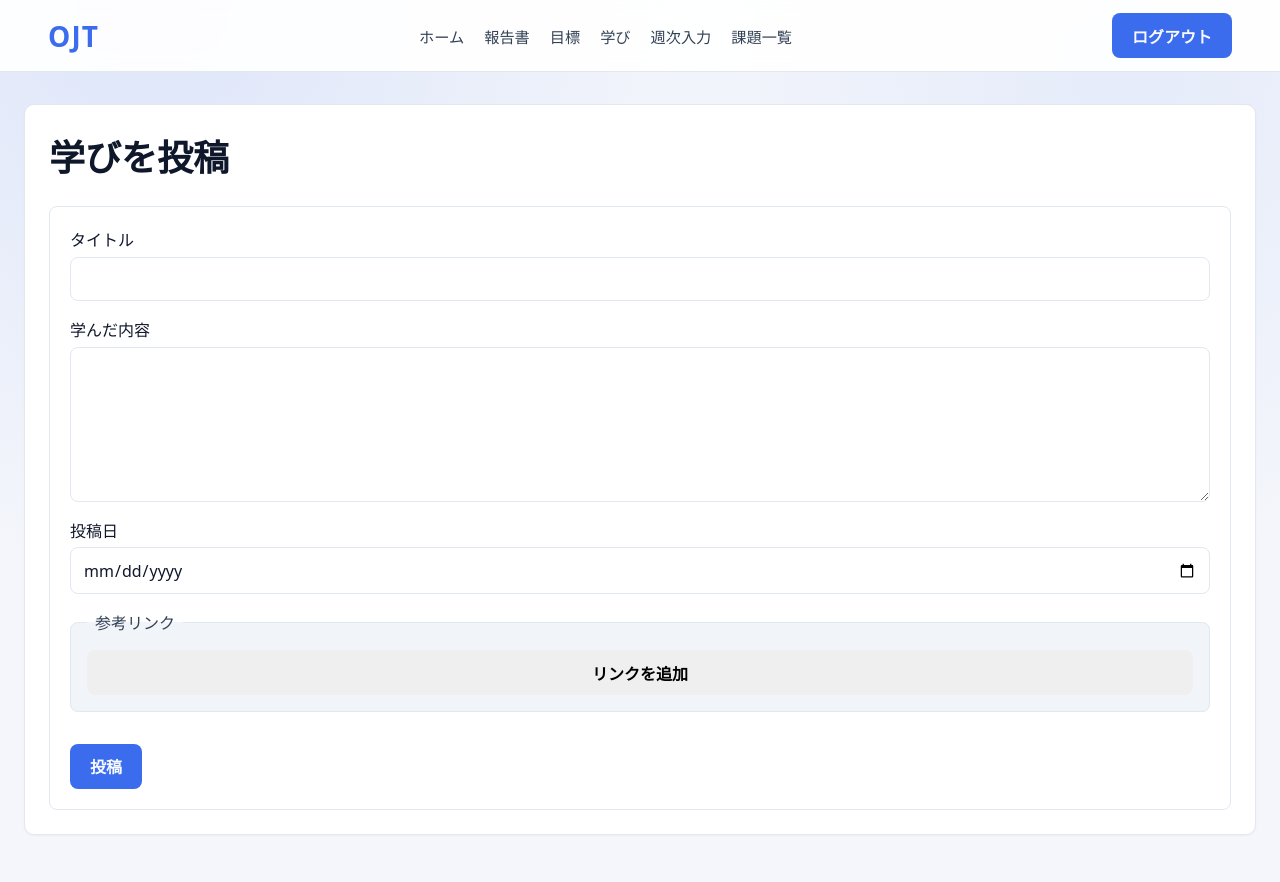
Test: 学び UI › U-L24 投稿画面での作成 › title・body・URLを入力して投稿すると成功フィードバックとタイムライン反映
Type "新しい学び" into the field labelled "タイトル".
click(640, 279); type("新しい学び")  # box [70, 257, 1210, 301]
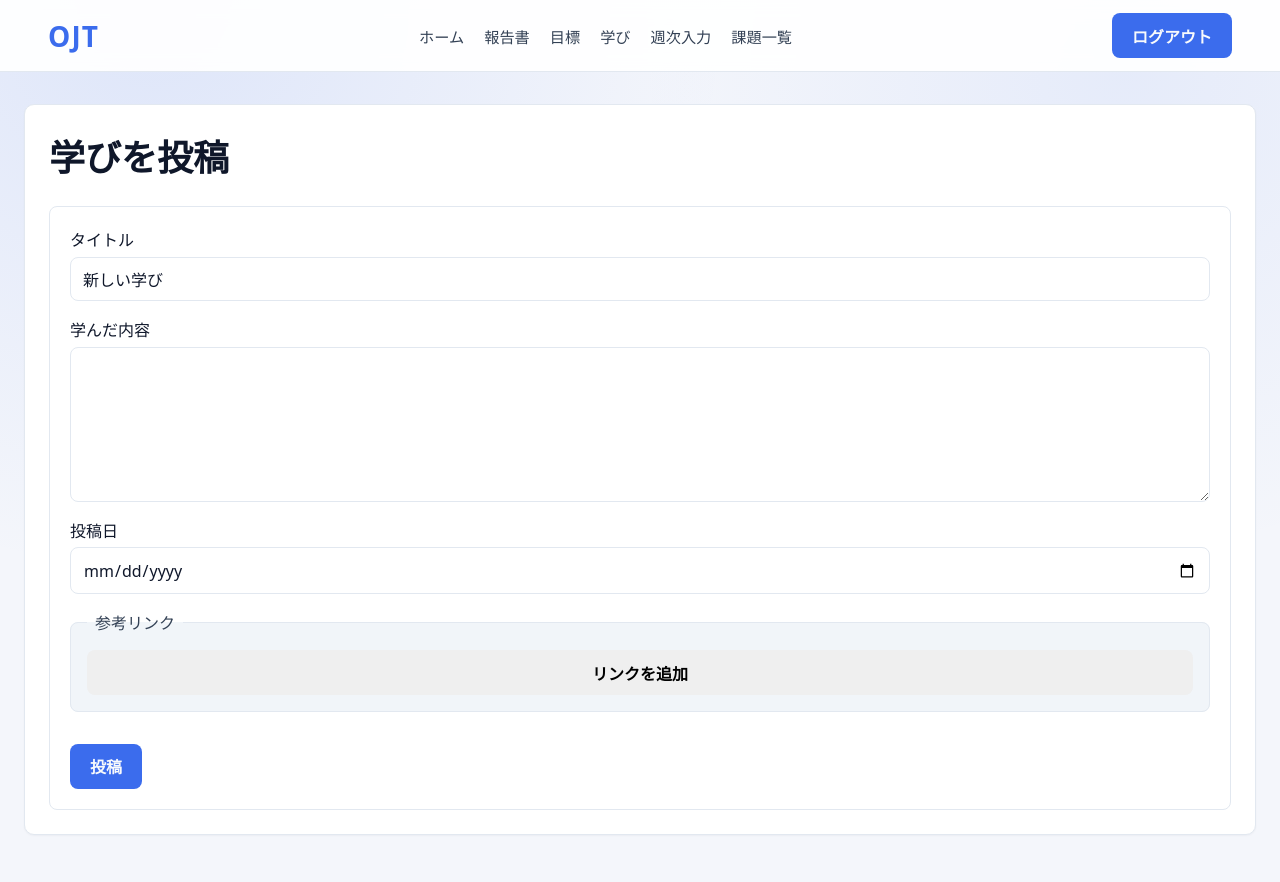
Type "今日はテストを書いた。" into the text box labelled "学んだ内容".
click(640, 424); type("今日はテストを書いた。")  # box [70, 347, 1210, 502]
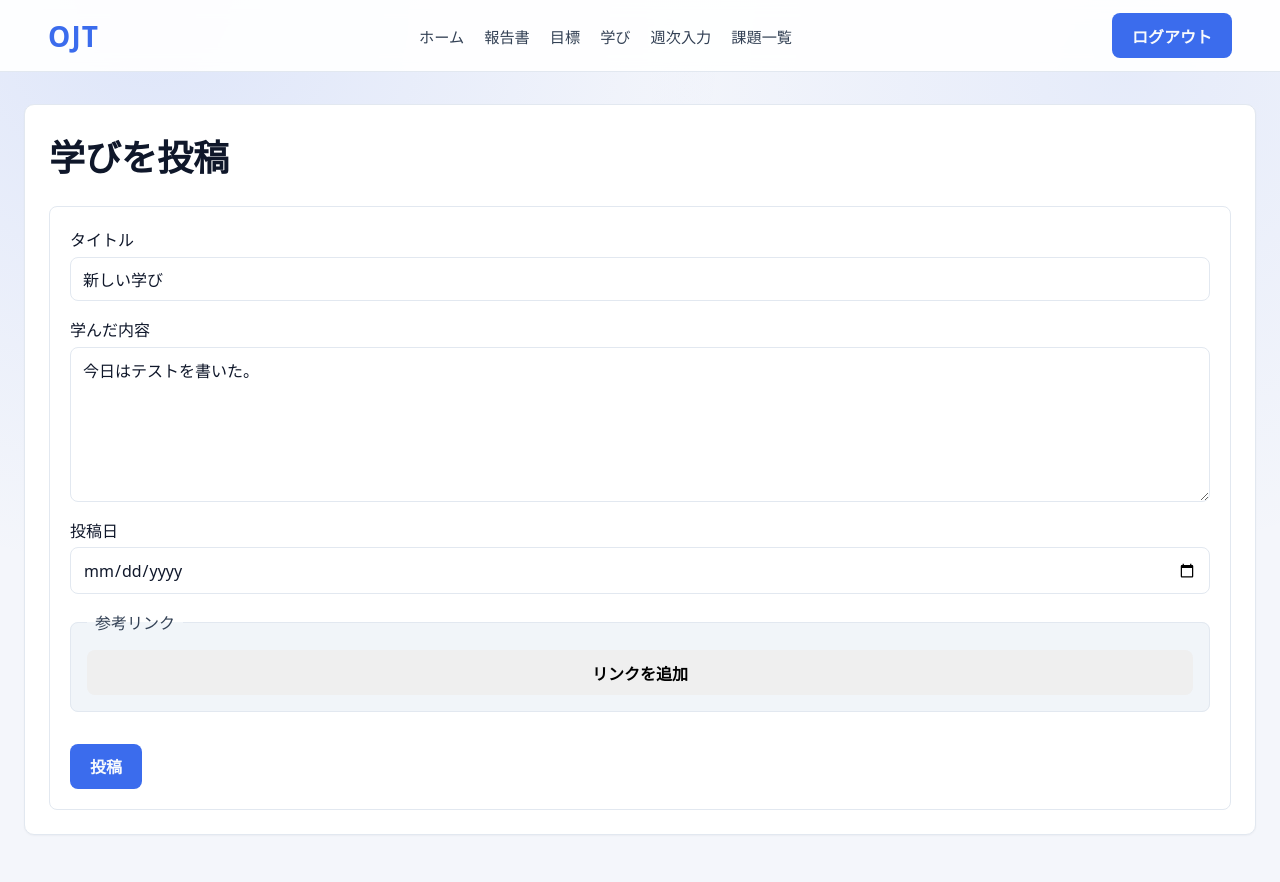
Click the button "リンクを追加".
click(640, 672)  # box [87, 650, 1193, 695]
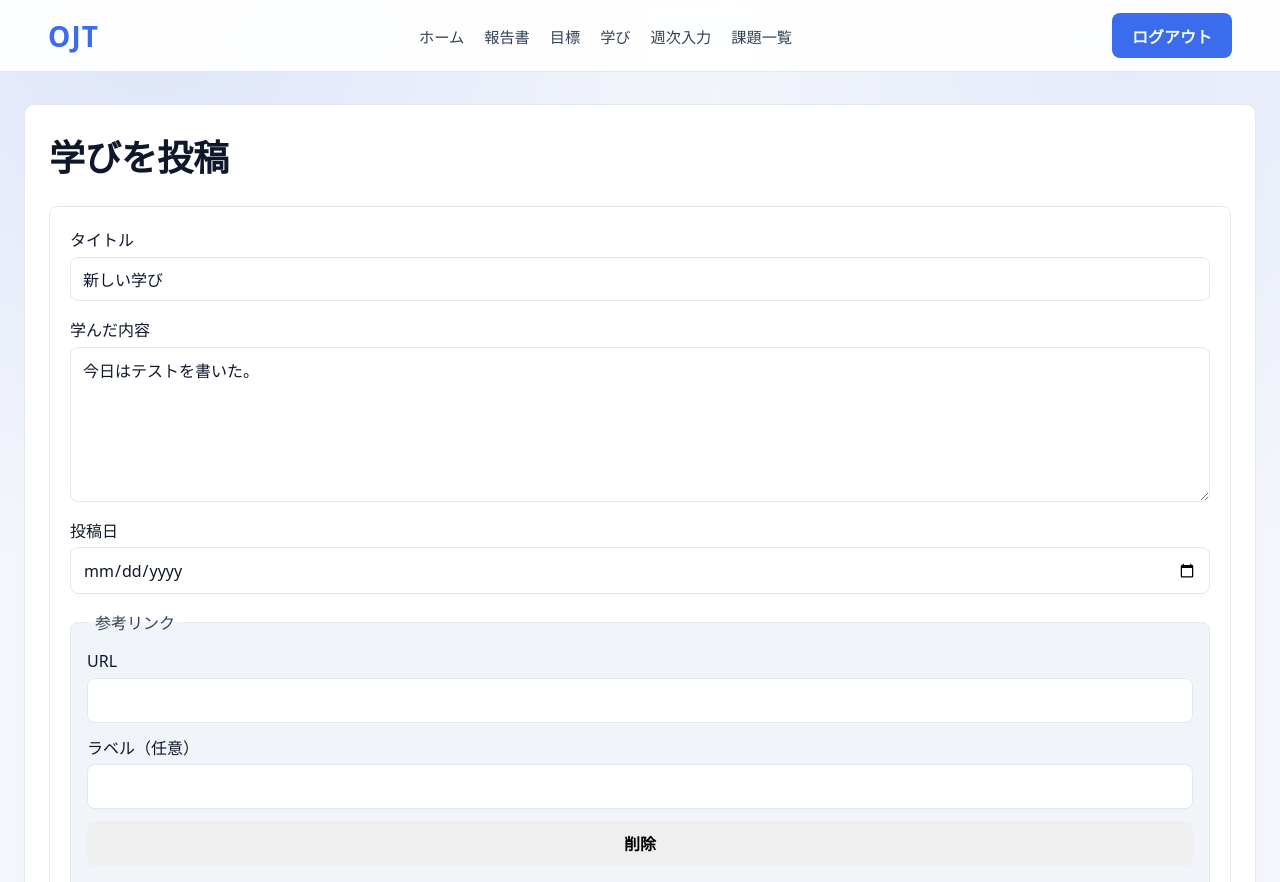
Type "https://example.com/docs" into the field labelled "URL".
click(640, 700); type("https://example.com/docs")  # box [87, 678, 1193, 722]
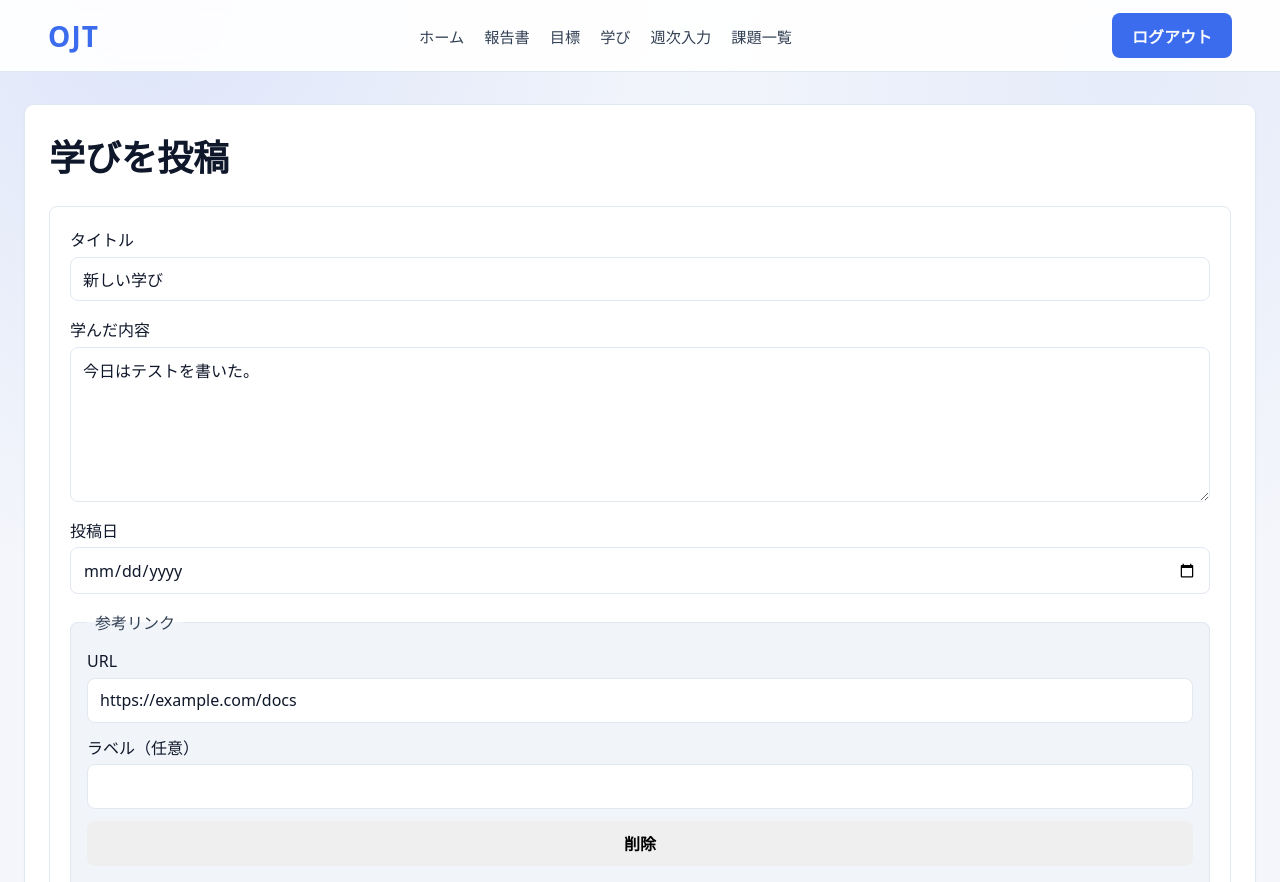
Type "Example Docs" into the field labelled "ラベル（任意）".
click(640, 786); type("Example Docs")  # box [87, 764, 1193, 809]
(page scrolled)
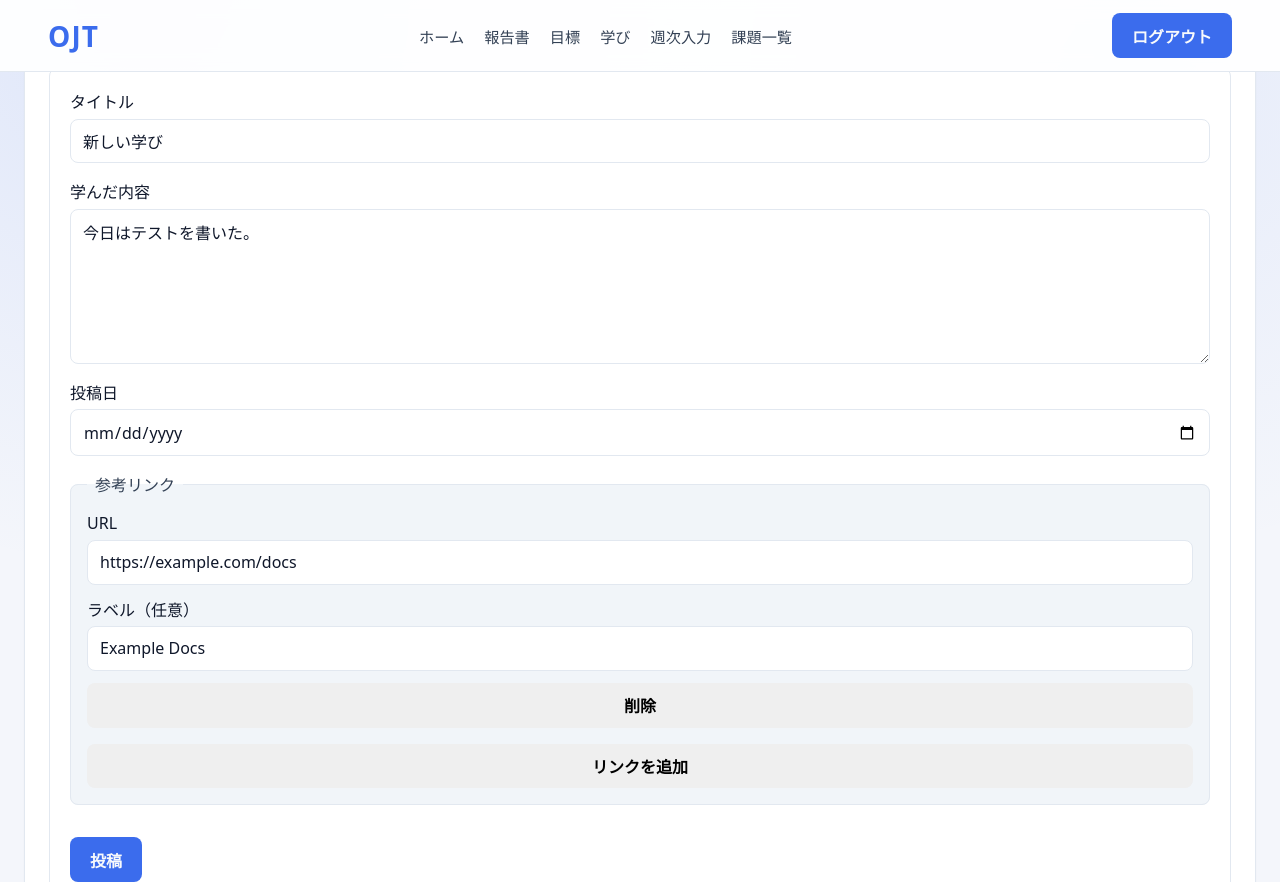
Submit the form named "学び投稿"
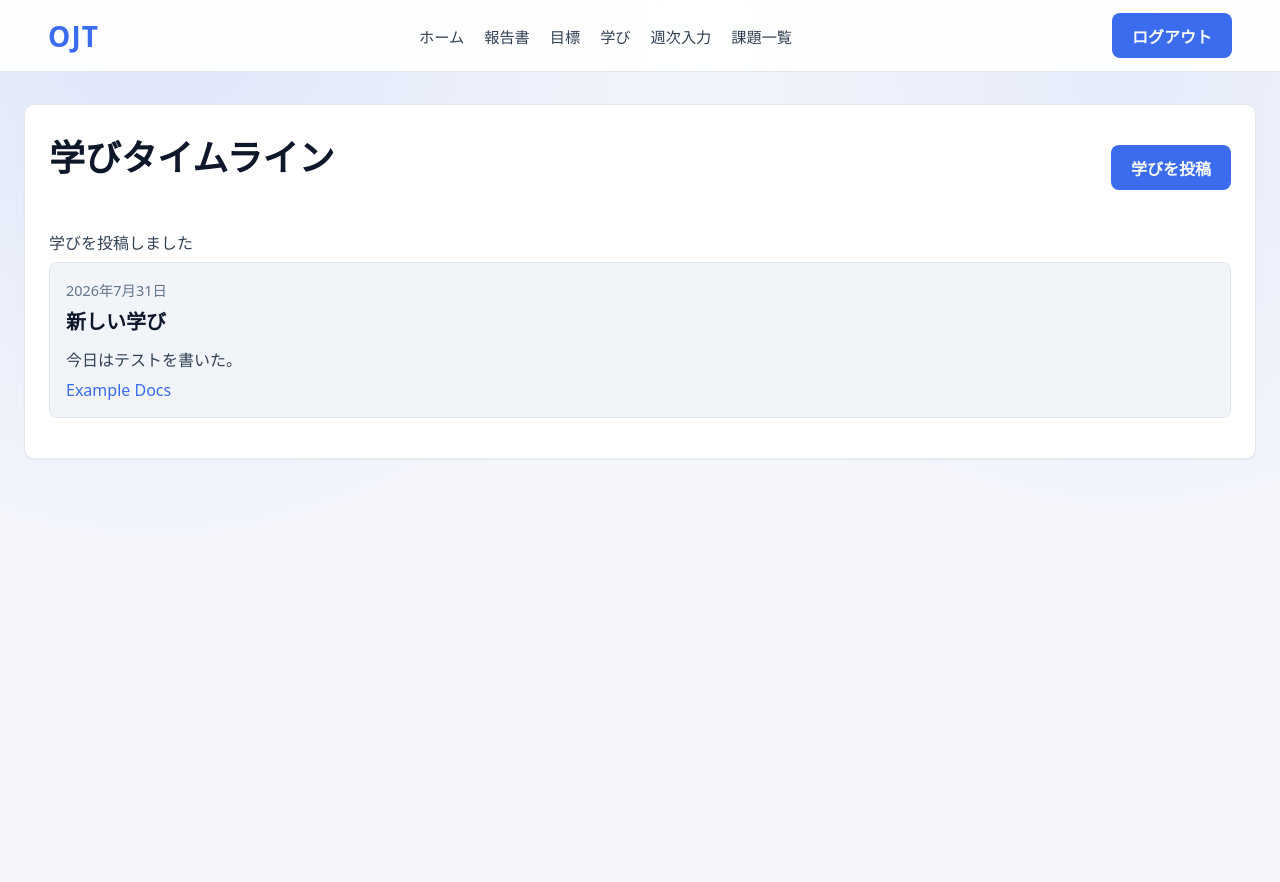
Now the message "学びを投稿しました" is shown, box [49, 232, 193, 254]
Now the heading "新しい学び" is shown, box [66, 308, 166, 335]
Now the text "今日はテストを書いた。" is shown, box [66, 349, 242, 371]
